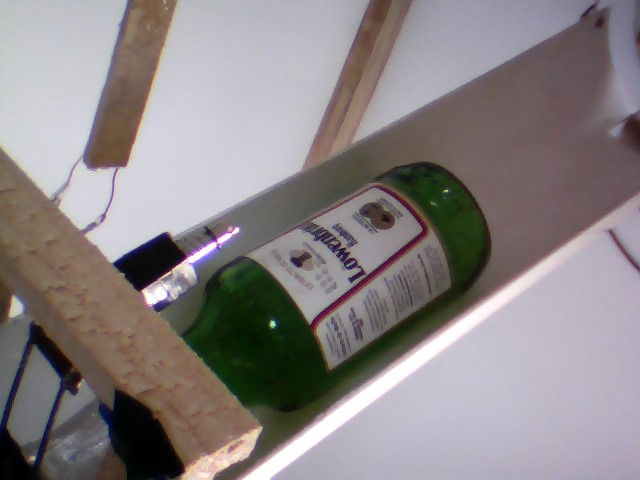vidrio: (176, 156, 501, 418)
